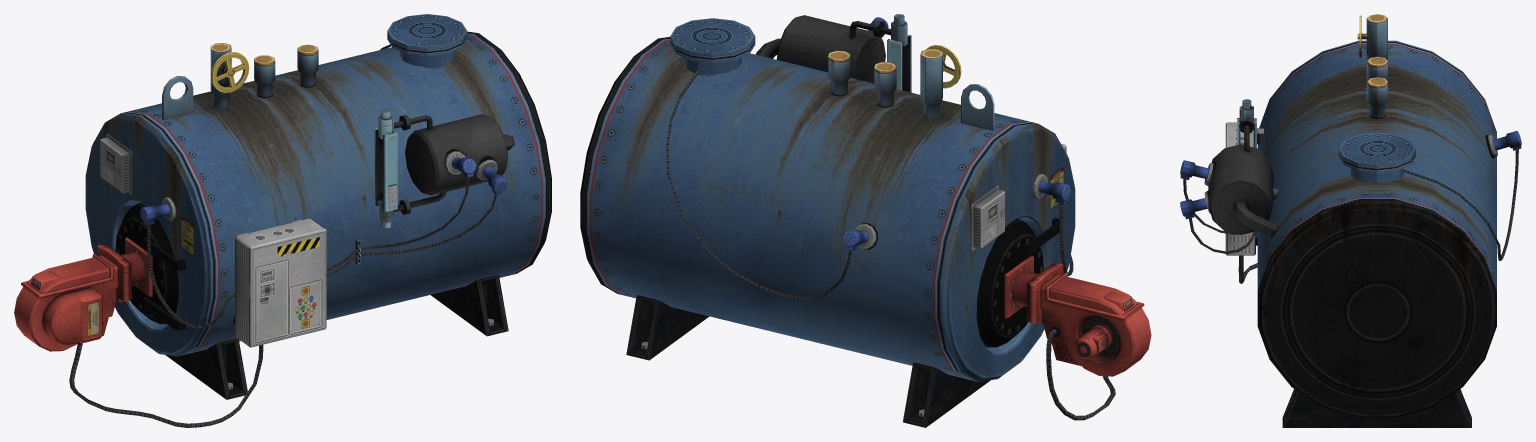
File: Boilers01.FBX
3 renders of one model, left to right at view 1: azimuth 30°, elevation 25°; view 2: azimuth 150°, elevation 25°; view 3: azimuth 270°, elevation 25°, orthographic. The views are drawn at different scales.
Visible parts, largest first — view 1: Boilers01a, Boilers01b; view 2: Boilers01a, Boilers01b; view 3: Boilers01a, Boilers01b.
Boxes of the visible parts, x1,y1,x2,y2 form: Boilers01a: [85, 14, 551, 399]; Boilers01b: [14, 43, 514, 427]; Boilers01a: [580, 18, 1075, 427]; Boilers01b: [666, 14, 1151, 420]; Boilers01a: [1257, 40, 1496, 427]; Boilers01b: [1180, 14, 1521, 283].
Bounding box in the file's own units: 5.7 × 3.58 × 3.7.
